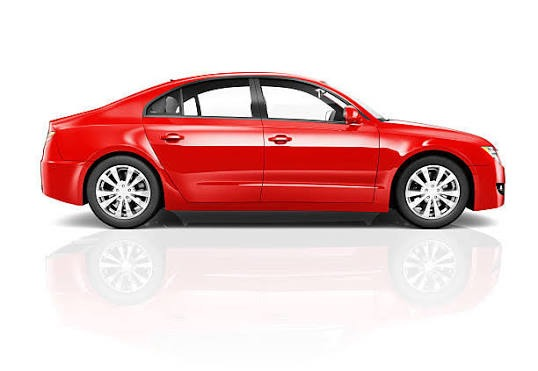car: (39, 75, 512, 225)
